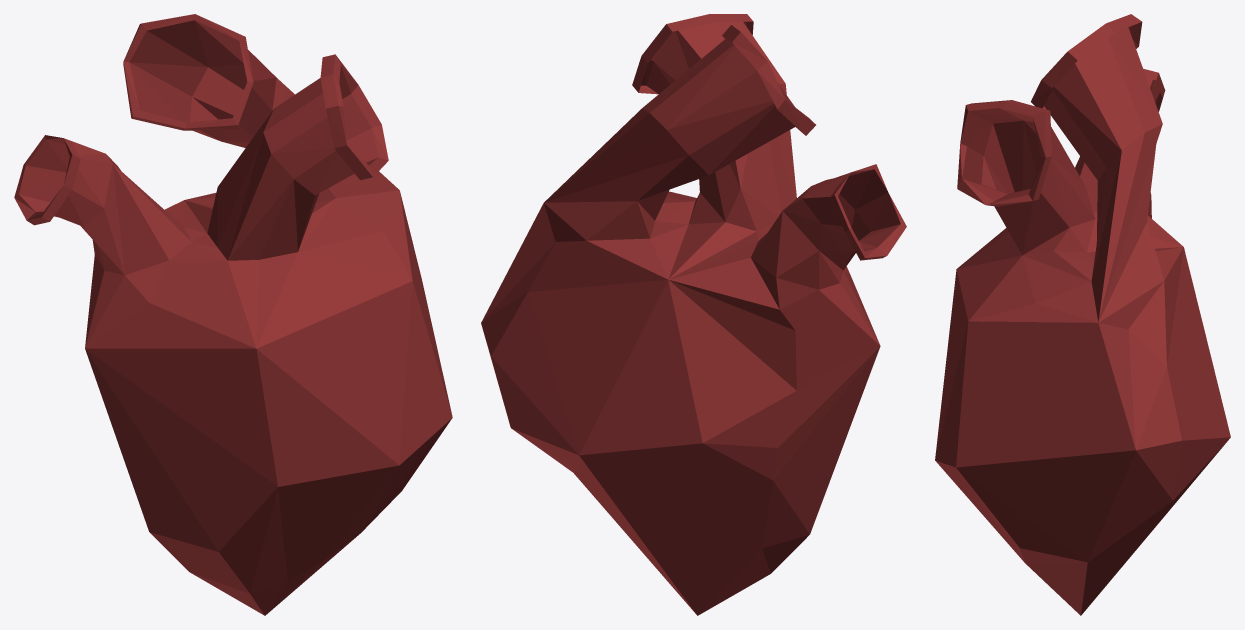
The model's file is Game_HeartBoss.fbx.
3 views of the same model, side by side, from view 1: azimuth 30°, elevation 25°; view 2: azimuth 150°, elevation 25°; view 3: azimuth 270°, elevation 25° (orthographic). The views are drawn at different scales.
Parts seen in each view (by area): view 1: geo_HeartBoss_Final; view 2: geo_HeartBoss_Final; view 3: geo_HeartBoss_Final.
Part boxes in pixels (bbox=[...]): geo_HeartBoss_Final: bbox=[14, 14, 452, 615]; geo_HeartBoss_Final: bbox=[481, 14, 906, 615]; geo_HeartBoss_Final: bbox=[935, 14, 1230, 615].
Size of the model in its own units: 8.02 by 11.53 by 5.46.
